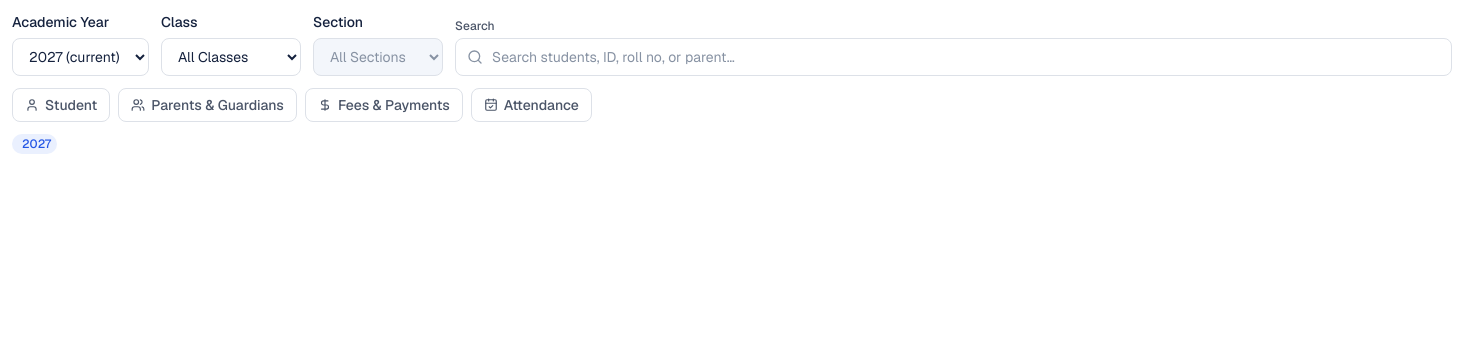
Test: StudentListFilters — Attendance category › hides the Attendance % field when hasAttendanceData is false, but keeps Session and Status
Step 1. Click the button "Attendance" → (531, 105), box [471, 88, 592, 122]
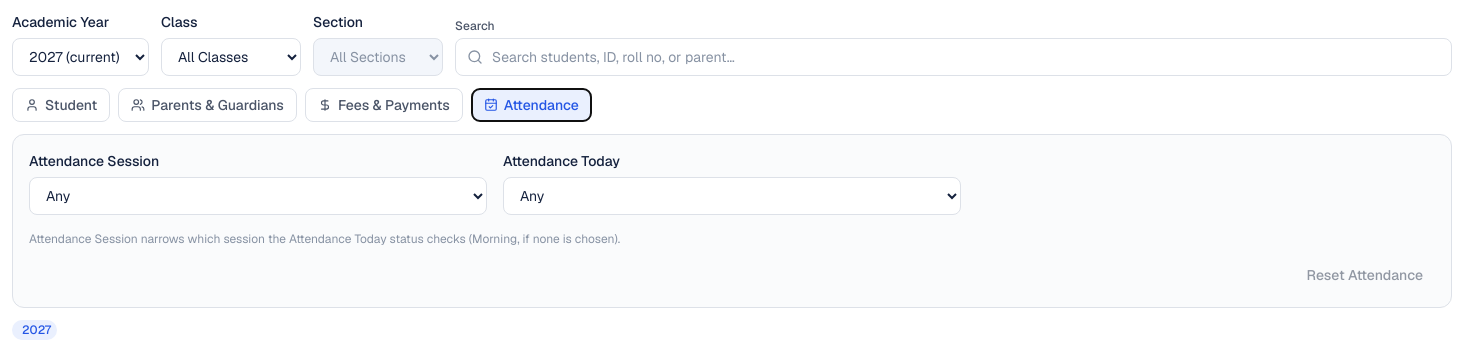
Result: the 5th dropdown is shown at [503, 177, 961, 215]
